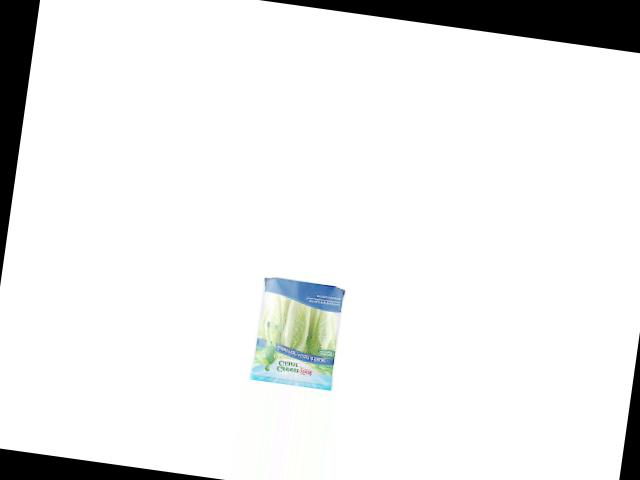lettuce: (247, 271, 347, 386)
